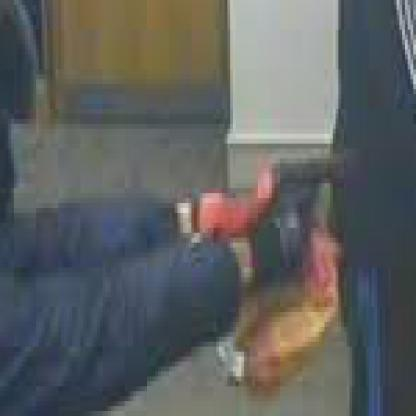gun: (249, 134, 372, 292)
